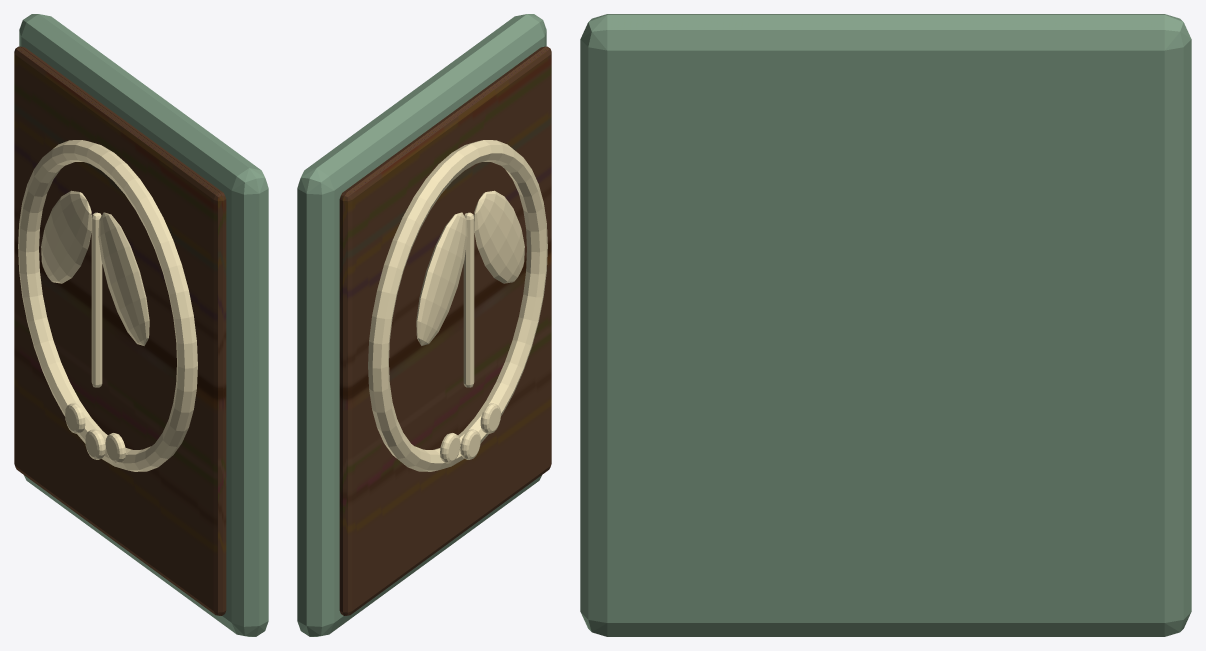
File: SM_HH_V3_GuardianSign.fbx
The picture shows the model from 3 angles, left to right: view 1: azimuth 30°, elevation 25°; view 2: azimuth 150°, elevation 25°; view 3: azimuth 270°, elevation 25°; orthographic projection. The views are drawn at different scales.
Parts seen in each view (by area): view 1: HH_V3_GuardianSign; view 2: HH_V3_GuardianSign; view 3: HH_V3_GuardianSign.
Part boxes in pixels (bbox=[...]): HH_V3_GuardianSign: bbox=[14, 14, 268, 636]; HH_V3_GuardianSign: bbox=[297, 14, 551, 636]; HH_V3_GuardianSign: bbox=[580, 14, 1191, 636].
Size of the model in its own units: 0.74 by 0.1355 by 0.83.
